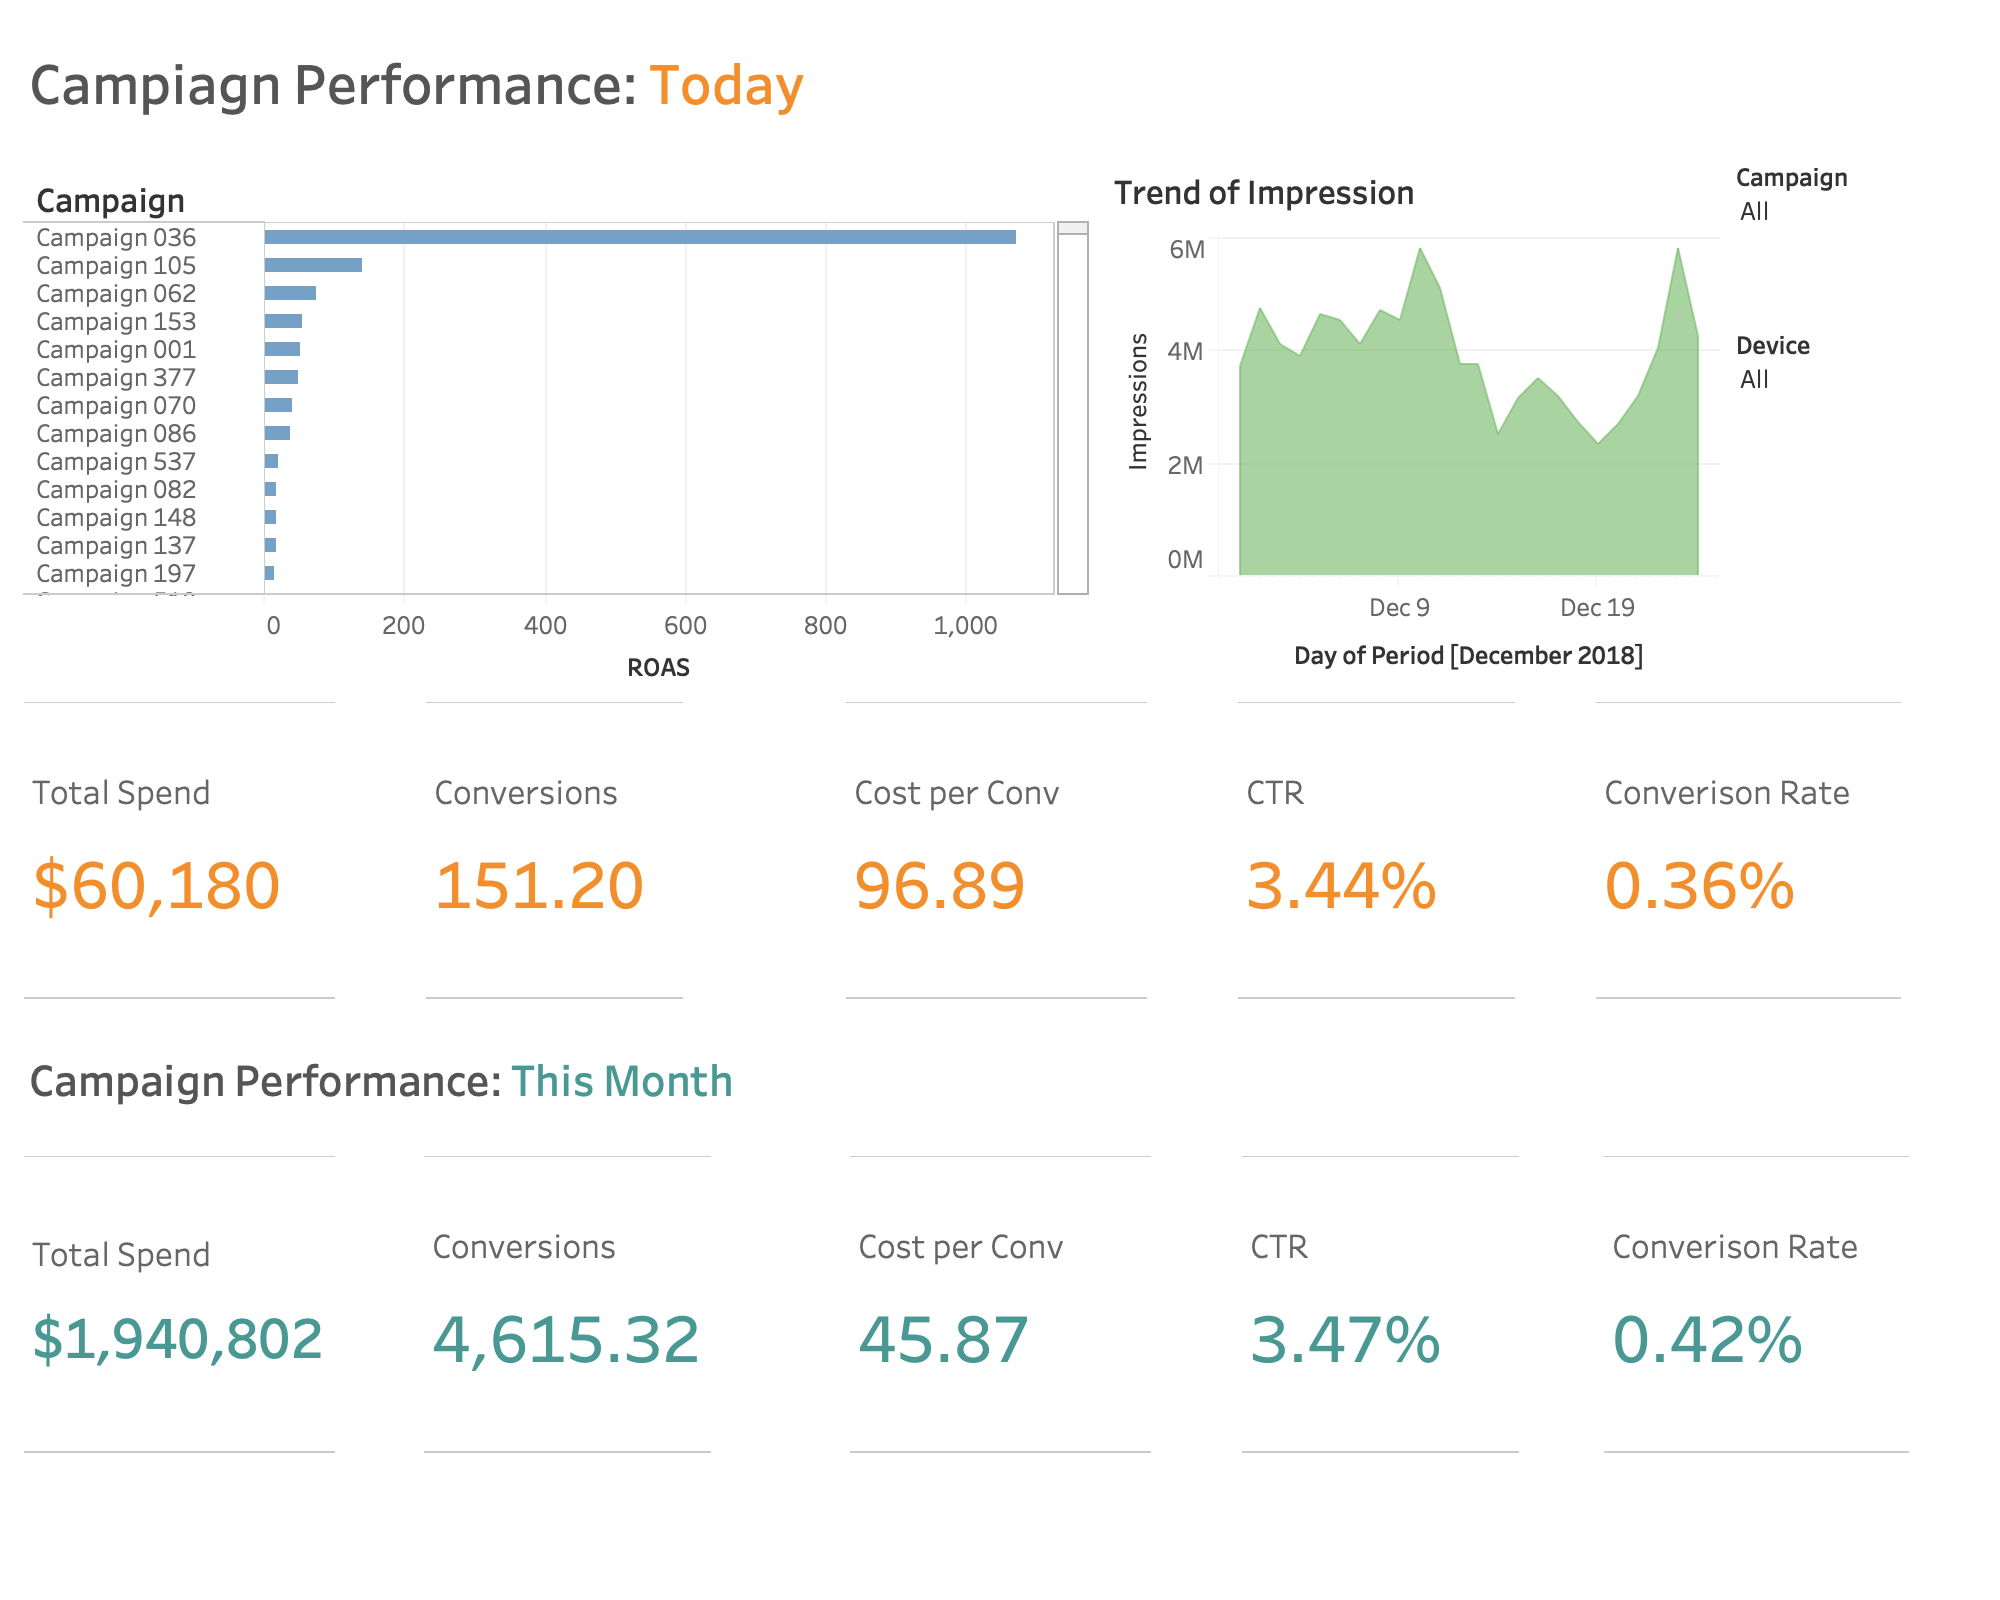

What the dashboard file says about the page in this screenshot:
{"tool":"tableau","page":{"name":"Dashboard_Campaign_Performance","canvas":[1000,800],"ordinal":0},"visuals":[{"type":"text","box":[8,8,984,67]},{"type":"worksheet","title":"Campaign_ROAS_Today","mark":"Bar","rows":["Day","Campaign"],"cols":["ROI"],"box":[8,75,541,272]},{"type":"worksheet","title":"Trend of Impression","mark":"Area","rows":["Impressions"],"cols":["Day"],"box":[549,75,315,272]},{"type":"filter","title":"Spending_Today","param":"[federated.1x7wusw17rf5a6163vt2t01ocihh].[none:Campaign:nk]","box":[864,75,128,84]},{"type":"filter","title":"CPC_Today","param":"[federated.1x7wusw17rf5a6163vt2t01ocihh].[none:Device:nk]","box":[864,159,128,188]},{"type":"worksheet","title":"Spending_Today","mark":"Text","cols":["Day"],"box":[8,347,200.6,158]},{"type":"worksheet","title":"Conversions_Today","mark":"Text","cols":["Day"],"box":[208.6,347,210.2,158]},{"type":"worksheet","title":"CPC_Today","mark":"Text","cols":["Day"],"box":[418.8,347,195.8,158]},{"type":"worksheet","title":"CTR_Today","mark":"Text","cols":["Day"],"box":[614.6,347,179.1,158]},{"type":"worksheet","title":"CR_Today ","mark":"Text","cols":["Day"],"box":[793.8,347,198.2,158]},{"type":"text","box":[8,505,984,69]},{"type":"worksheet","title":"Spending_12","mark":"Text","cols":["Day"],"box":[8,574,200,218]},{"type":"worksheet","title":"Conversions_12","mark":"Text","cols":["Day"],"box":[208,574,213,218]},{"type":"worksheet","title":"CPC_12","mark":"Text","cols":["Day"],"box":[421,574,196,218]},{"type":"worksheet","title":"CTR_12","mark":"Text","cols":["Day"],"box":[617,574,181,218]},{"type":"worksheet","title":"CR_12","mark":"Text","cols":["Day"],"box":[798,574,194,218]}]}

Visuals, with their boxes in screenshot pixels (x1, y1, x2, y2), scaled from the page's 1000x800 canvas onto the 2000x1600 screenshot:
text: [x1=16, y1=16, x2=1984, y2=150]
"Campaign_ROAS_Today" worksheet (Bar marks): [x1=16, y1=150, x2=1098, y2=694]
"Trend of Impression" worksheet (Area marks): [x1=1098, y1=150, x2=1728, y2=694]
"Spending_Today" filter: [x1=1728, y1=150, x2=1984, y2=318]
"CPC_Today" filter: [x1=1728, y1=318, x2=1984, y2=694]
"Spending_Today" worksheet (Text marks): [x1=16, y1=694, x2=417, y2=1010]
"Conversions_Today" worksheet (Text marks): [x1=417, y1=694, x2=838, y2=1010]
"CPC_Today" worksheet (Text marks): [x1=838, y1=694, x2=1229, y2=1010]
"CTR_Today" worksheet (Text marks): [x1=1229, y1=694, x2=1587, y2=1010]
"CR_Today " worksheet (Text marks): [x1=1588, y1=694, x2=1984, y2=1010]
text: [x1=16, y1=1010, x2=1984, y2=1148]
"Spending_12" worksheet (Text marks): [x1=16, y1=1148, x2=416, y2=1584]
"Conversions_12" worksheet (Text marks): [x1=416, y1=1148, x2=842, y2=1584]
"CPC_12" worksheet (Text marks): [x1=842, y1=1148, x2=1234, y2=1584]
"CTR_12" worksheet (Text marks): [x1=1234, y1=1148, x2=1596, y2=1584]
"CR_12" worksheet (Text marks): [x1=1596, y1=1148, x2=1984, y2=1584]
